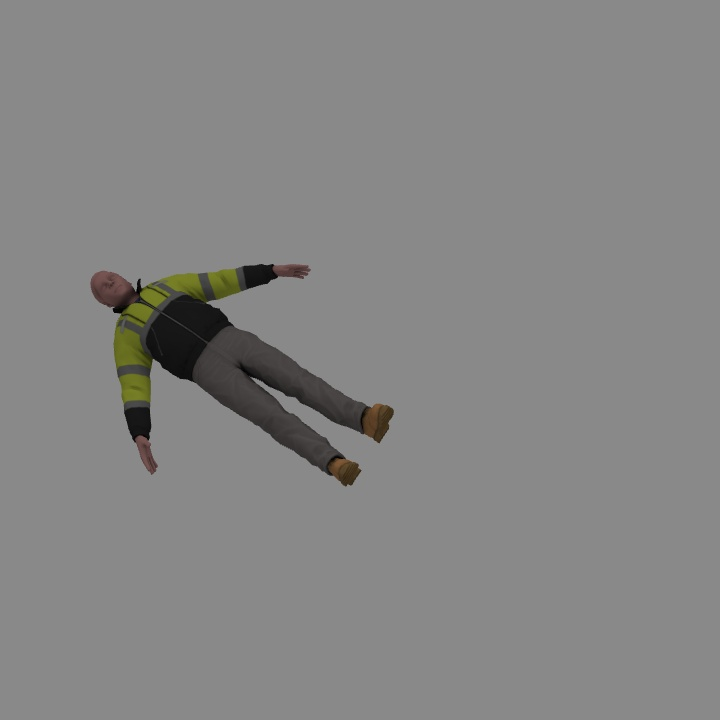victim: (87, 267, 394, 487)
